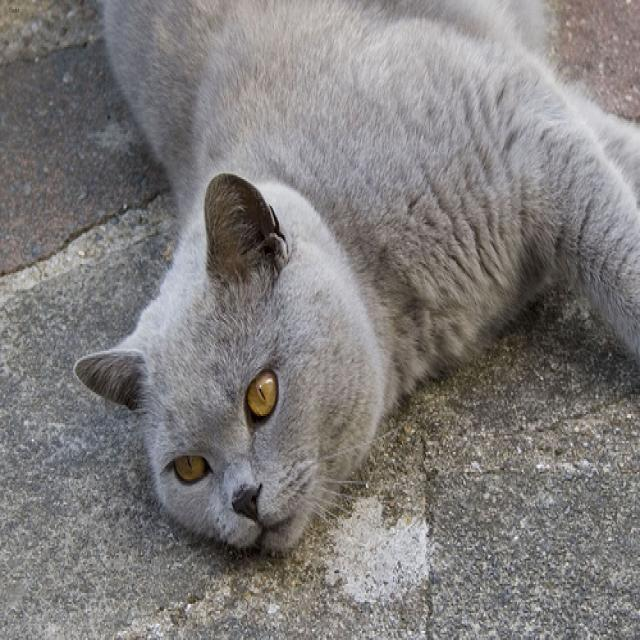British_Shorthair: (73, 171, 383, 561)
